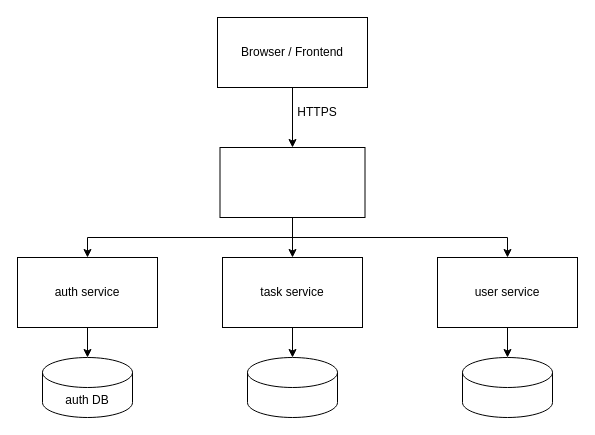
Image size: 595x435. Some labels were removed from this diagram. The centre of each missing label's shape, as x and y in pixels:
nginx (API GATEWAY): [292,182]
task DB: [292,387]
user DB: [507,387]
